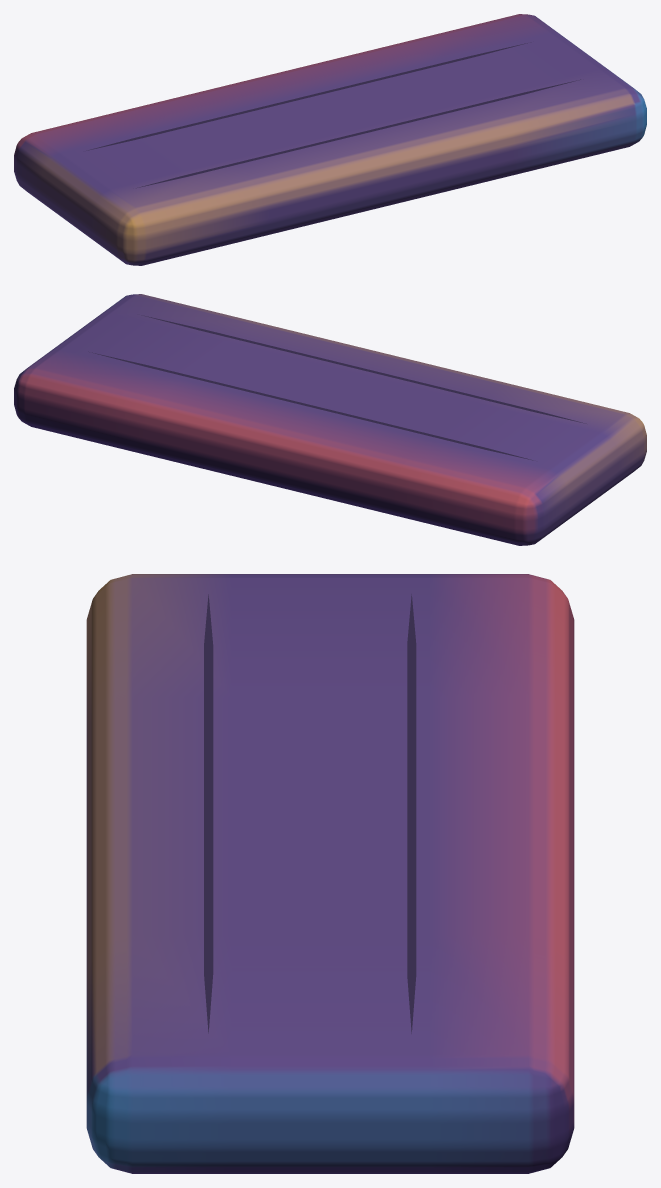
Rendered from Plank_Fusion.glb.
The picture shows the model from 3 angles, top to bottom: view 1: azimuth 30°, elevation 25°; view 2: azimuth 150°, elevation 25°; view 3: azimuth 270°, elevation 25°; orthographic projection. The views are drawn at different scales.
Visible parts, largest first — view 1: Plank_fusion; view 2: Plank_fusion; view 3: Plank_fusion.
Boxes of the visible parts, <box> form: Plank_fusion: <box>14,14,646,265</box>; Plank_fusion: <box>14,294,646,545</box>; Plank_fusion: <box>86,574,574,1173</box>.
Bounding box in the file's own units: 1.2 × 0.1253 × 0.48.
